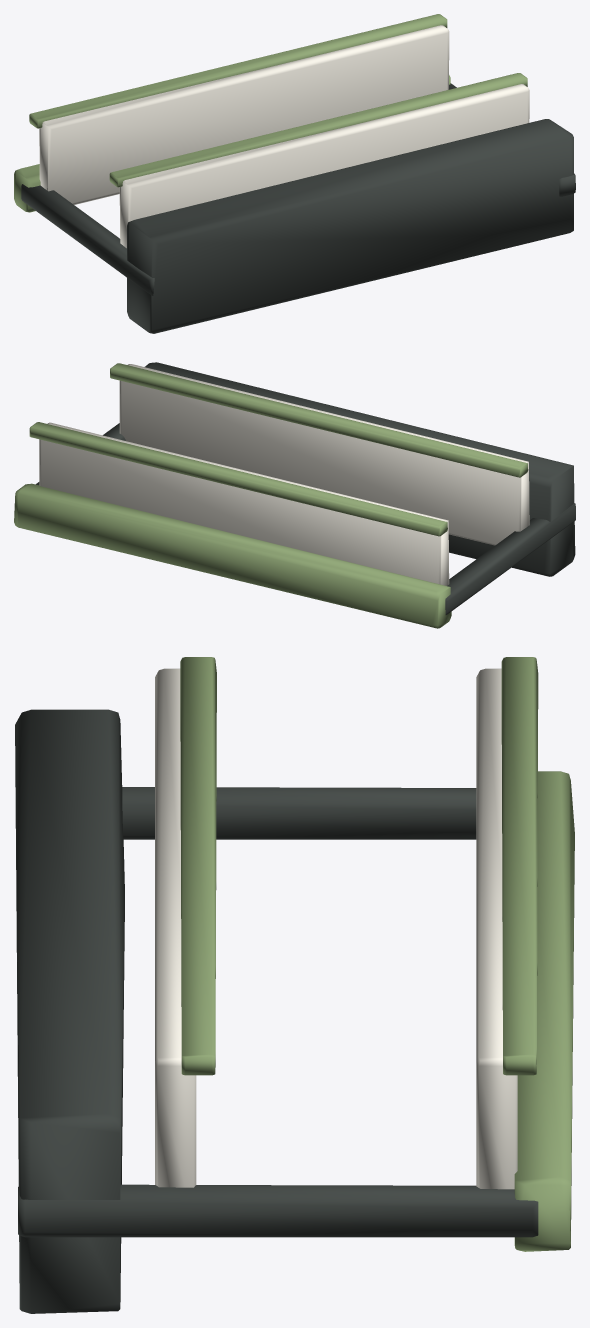
The model's file is shelf_wall_low.glb.
3 renders of one model, top to bottom at view 1: azimuth 30°, elevation 25°; view 2: azimuth 150°, elevation 25°; view 3: azimuth 270°, elevation 25°, orthographic. The views are drawn at different scales.
Visible parts, largest first — view 1: Base, Shelf.001, Shelf, Trim.001, Trim, Post, Header; view 2: Shelf, Shelf.001, Header, Base, Trim.001, Trim, Post; view 3: Base, Post.001, Header, Shelf.001, Post, Shelf, Trim, Trim.001.
Boxes of the visible parts, x1,y1,x2,y2 form: Base: [127, 119, 573, 333]; Shelf.001: [39, 25, 449, 204]; Shelf: [119, 84, 529, 248]; Trim.001: [29, 14, 447, 128]; Trim: [109, 73, 527, 187]; Post: [21, 184, 154, 295]; Header: [14, 75, 450, 212]; Shelf: [119, 364, 529, 545]; Shelf.001: [39, 422, 449, 585]; Header: [14, 483, 451, 628]; Base: [145, 362, 575, 576]; Trim.001: [29, 422, 447, 536]; Trim: [110, 363, 528, 477]; Post: [445, 503, 575, 614]; Base: [15, 709, 124, 1313]; Post.001: [18, 1184, 538, 1237]; Header: [514, 771, 574, 1251]; Shelf.001: [476, 668, 517, 1189]; Post: [122, 787, 476, 839]; Shelf: [155, 668, 196, 1187]; Trim: [180, 657, 216, 1075]; Trim.001: [501, 657, 538, 1075].
Size of the model in its own units: 2.15 by 0.6149 by 1.22.
